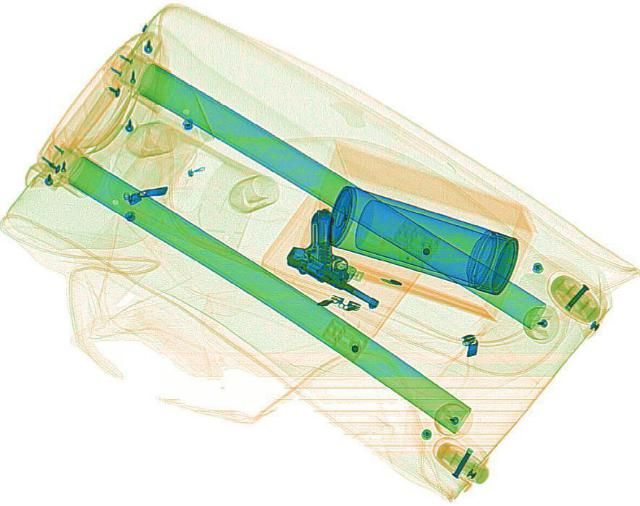Gun: (268, 205, 422, 311)
